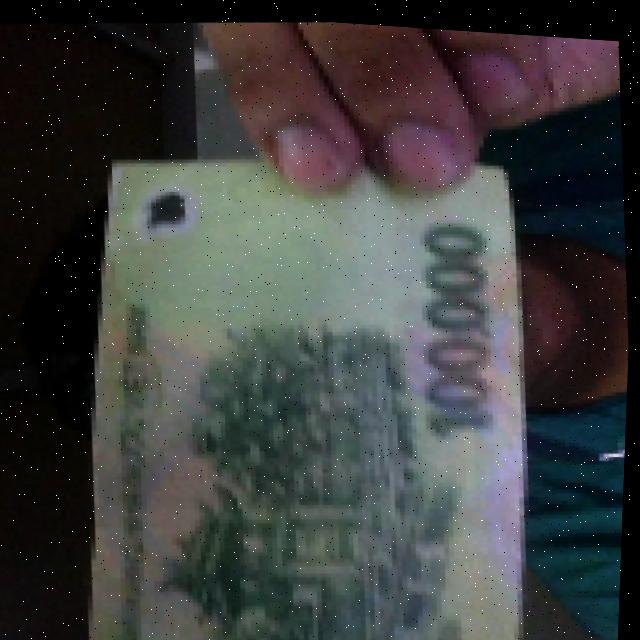100 000 VND: (49, 119, 553, 640)
